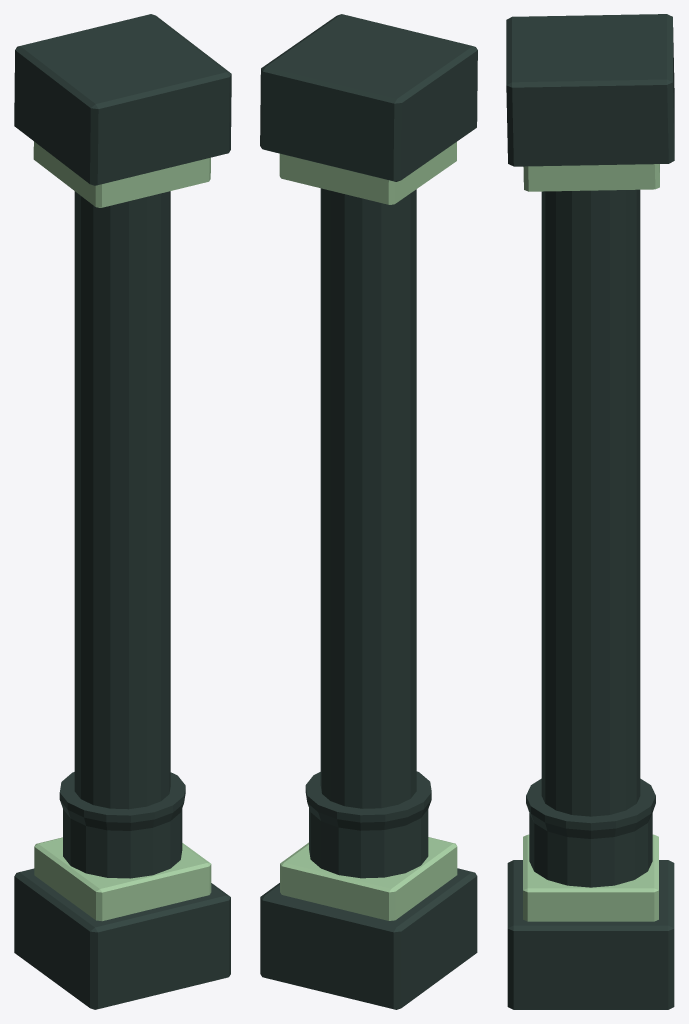
The model's file is pillar4A(F186).obj.
3 renders of one model, left to right at view 1: azimuth 30°, elevation 25°; view 2: azimuth 150°, elevation 25°; view 3: azimuth 270°, elevation 25°, orthographic. The views are drawn at different scales.
Visible parts, largest first — view 1: Cylinder, Cube.002, Cube, Cube.001, Cube.003; view 2: Cylinder, Cube.002, Cube, Cube.001, Cube.003; view 3: Cylinder, Cube.002, Cube, Cube.001, Cube.003.
Boxes of the visible parts, x1,y1,x2,y2 form: Cylinder: (59,191,185,878); Cube.002: (14,14,231,185); Cube: (14,868,230,1009); Cube.001: (34,837,211,921); Cube.003: (33,141,210,207); Cylinder: (305,188,431,878); Cube.002: (260,14,477,181); Cube: (260,868,477,1009); Cube.001: (280,837,457,920); Cube.003: (279,142,456,204); Cylinder: (526,189,655,887); Cube.002: (506,14,674,166); Cube: (507,860,674,1009); Cube.001: (523,834,658,921); Cube.003: (523,164,659,191).
Bounding box in the file's own units: 1.03 × 6.37 × 1.04.
